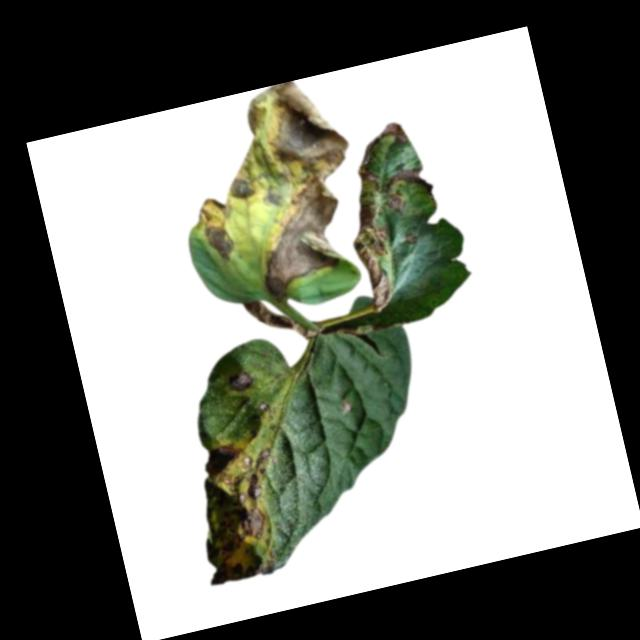Early_blight: (207, 72, 378, 305), (180, 429, 300, 588), (346, 194, 401, 309), (235, 288, 318, 352), (191, 194, 240, 268), (354, 139, 386, 191), (389, 163, 430, 194), (377, 120, 410, 149), (222, 367, 255, 396), (383, 192, 406, 217)
